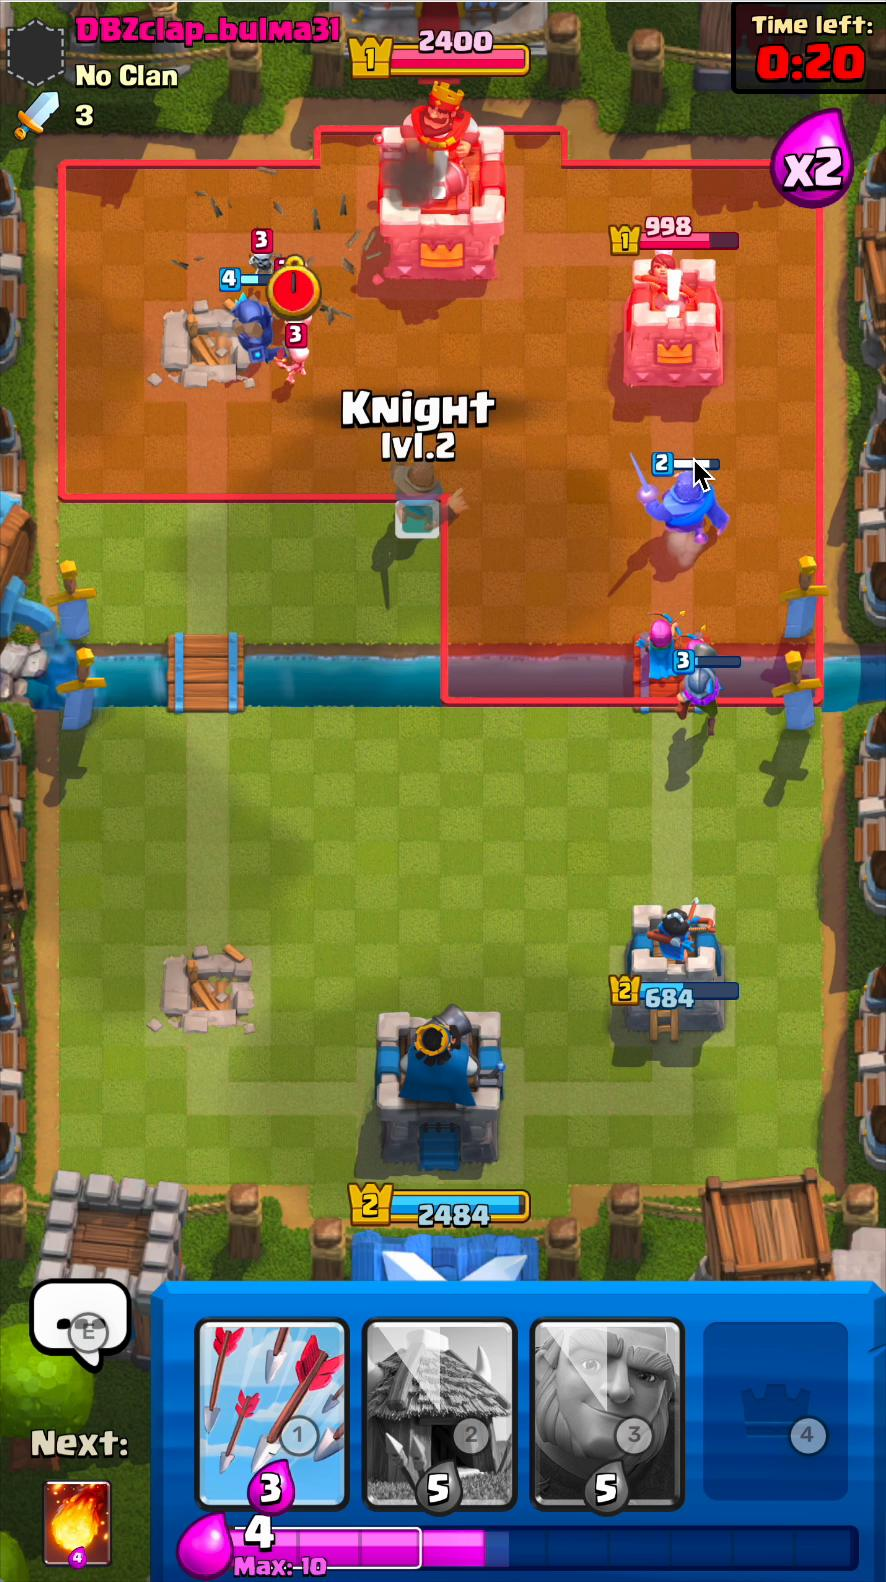archere: (629, 614, 709, 695)
chevalier: (383, 461, 482, 551), (645, 465, 736, 558)
mini_PEKKA: (219, 289, 284, 382)
mousquetaire: (670, 663, 751, 759)
